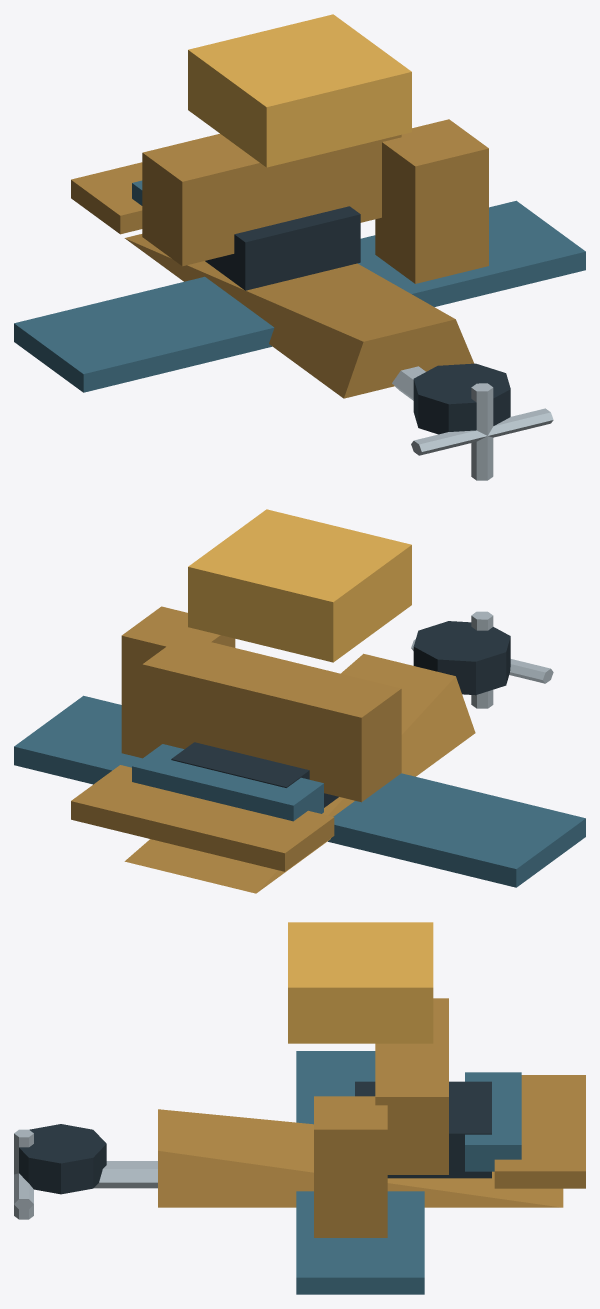
The model's file is air.obj.
3 renders of one model, top to bottom at view 1: azimuth 30°, elevation 25°; view 2: azimuth 150°, elevation 25°; view 3: azimuth 270°, elevation 25°, orthographic. The views are drawn at different scales.
Visible parts, largest first — view 1: air; view 2: air; view 3: air.
Boxes of the visible parts, left/top/right/bottom form: air: left=14, top=14, right=585, bottom=480; air: left=14, top=509, right=585, bottom=893; air: left=14, top=922, right=585, bottom=1294.
Size of the model in its own units: 2.18 by 1.17 by 2.33.
